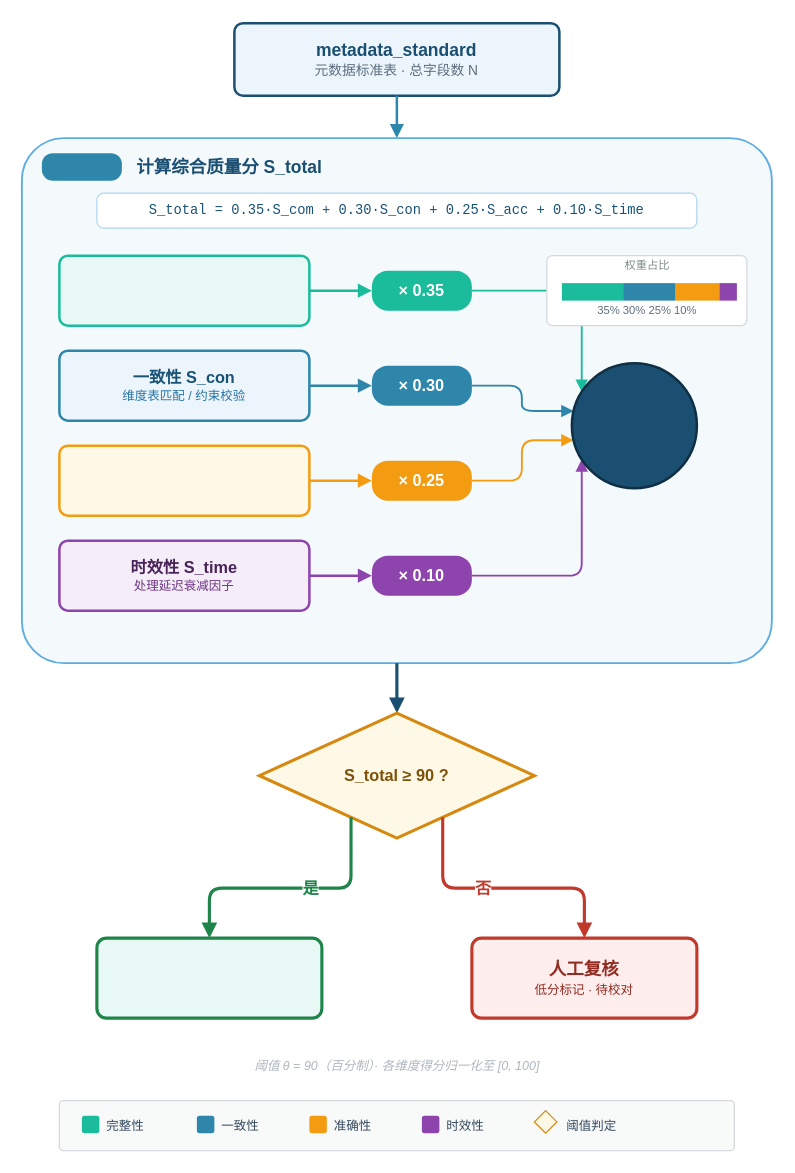
This 795x1173 diagram has some shape labels left out. The centre of each missing label's shape, as x and y in pixels:
"Σ 加权求和" goes at pixel 634 425.
"准确性 S_acc OCR 置信度均值" goes at pixel 184 480.
"四维评分" goes at pixel 81 166.
"完整性 S_com 已填充字段数 / N" goes at pixel 184 290.
"直接入库 高质量 · 自动归档" goes at pixel 209 977.
